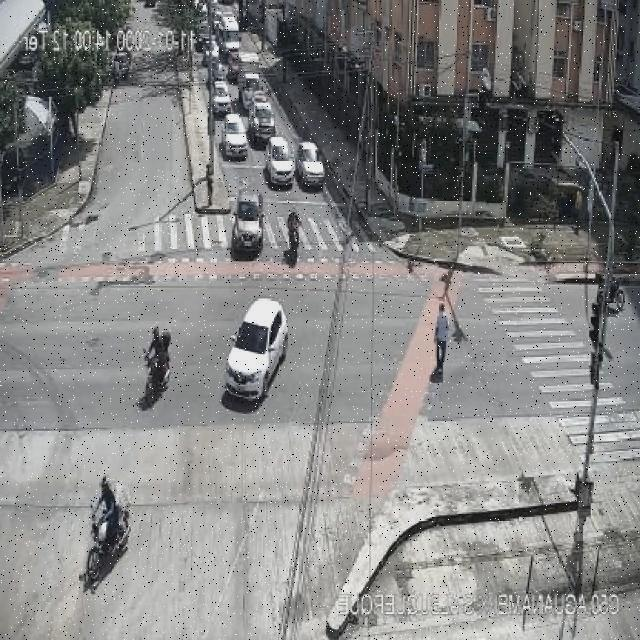Car: (224, 298, 288, 401), (231, 188, 267, 258), (264, 137, 295, 186), (296, 141, 326, 188), (220, 114, 249, 158), (248, 99, 276, 144), (239, 73, 263, 111), (212, 82, 232, 116), (112, 51, 132, 81), (196, 19, 213, 51), (202, 39, 220, 65), (225, 51, 241, 80), (212, 61, 228, 82)
